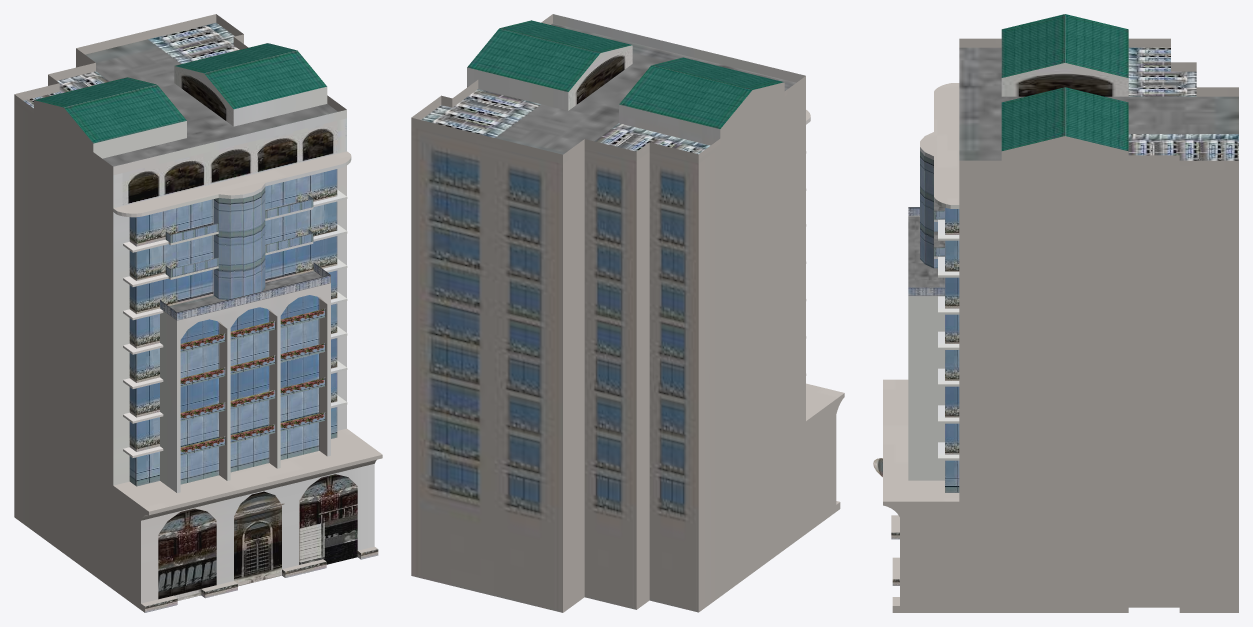
3 renders of one model, left to right at view 1: azimuth 30°, elevation 25°; view 2: azimuth 150°, elevation 25°; view 3: azimuth 270°, elevation 25°, orthographic. The views are drawn at different scales.
Visible parts, largest first — view 1: LE_JARDIN_HOTEL_AND_SPA; view 2: LE_JARDIN_HOTEL_AND_SPA; view 3: LE_JARDIN_HOTEL_AND_SPA.
Part boxes in pixels (bbox=[...]): LE_JARDIN_HOTEL_AND_SPA: bbox=[14, 14, 382, 612]; LE_JARDIN_HOTEL_AND_SPA: bbox=[411, 14, 844, 612]; LE_JARDIN_HOTEL_AND_SPA: bbox=[873, 14, 1238, 612].
Size of the model in its own units: 17.03 by 31.05 by 21.59.
1 material, 1 textured.
